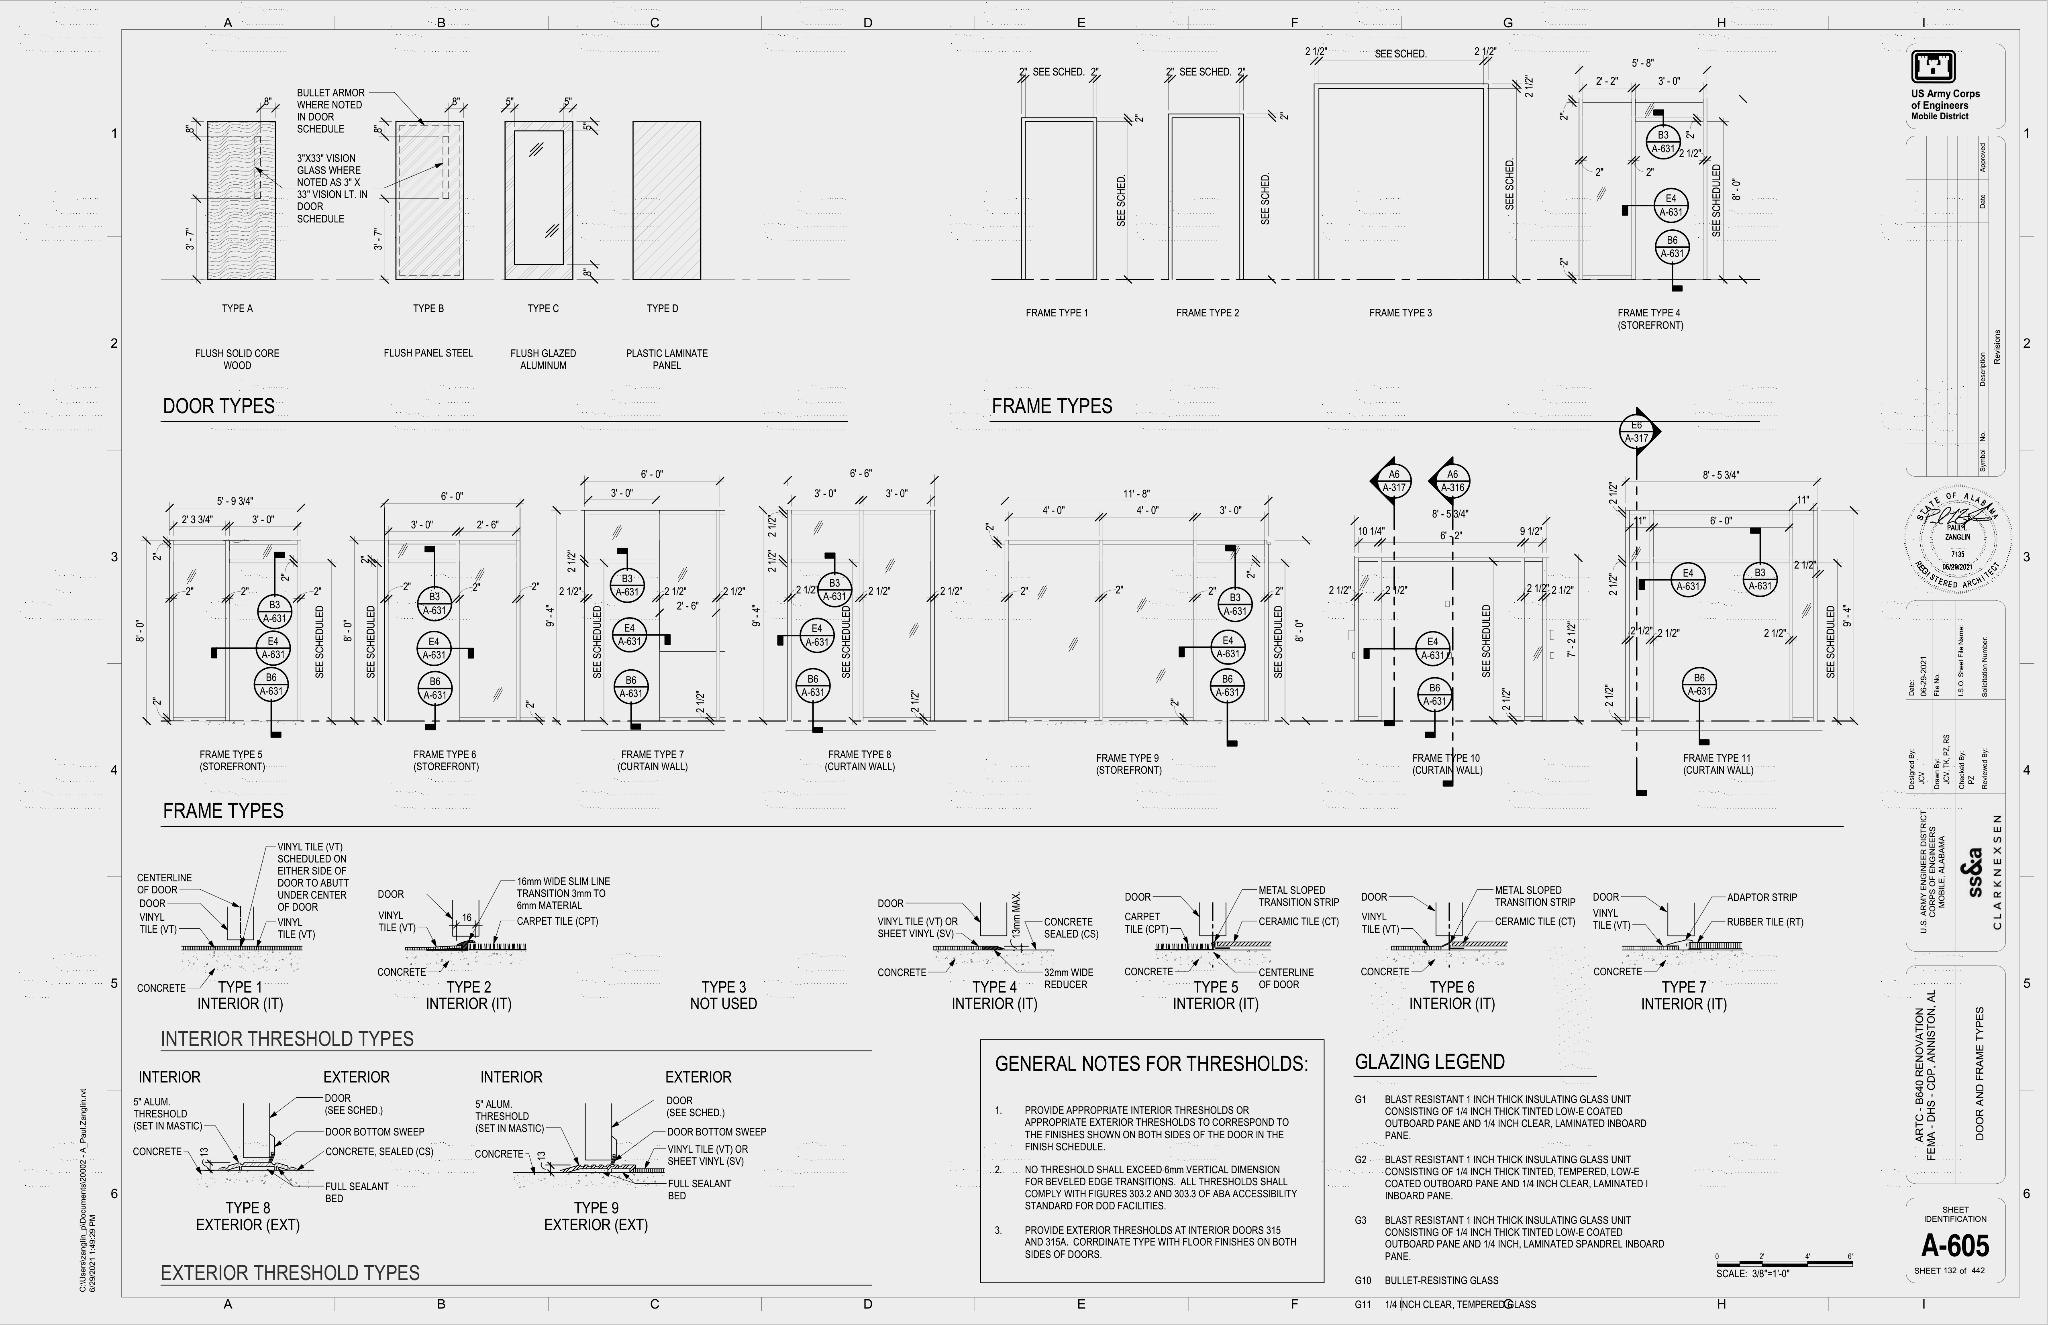detail: (255, 550, 302, 629), (205, 630, 295, 667), (413, 543, 453, 623), (1740, 526, 1783, 600), (252, 667, 292, 742), (1682, 665, 1718, 747), (1210, 665, 1246, 747), (414, 670, 460, 734), (1217, 545, 1253, 622), (1178, 628, 1247, 667), (412, 631, 483, 668), (794, 666, 830, 732), (1654, 228, 1690, 292), (1638, 562, 1705, 596), (1417, 676, 1453, 738), (778, 618, 837, 653), (608, 549, 646, 603), (816, 554, 853, 607), (614, 668, 650, 719), (1647, 186, 1690, 228), (1645, 110, 1681, 160), (1411, 631, 1451, 666), (612, 618, 653, 651), (1362, 648, 1374, 659), (630, 720, 641, 730), (661, 634, 669, 644), (1634, 204, 1635, 205), (1238, 578, 1238, 578)
elevation: (1426, 453, 1473, 531), (1369, 452, 1414, 533), (1618, 408, 1660, 478)
